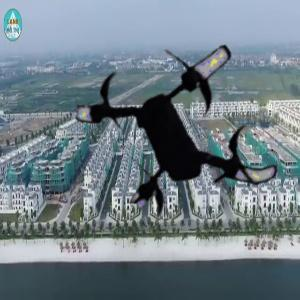drone: (80, 20, 293, 233)
